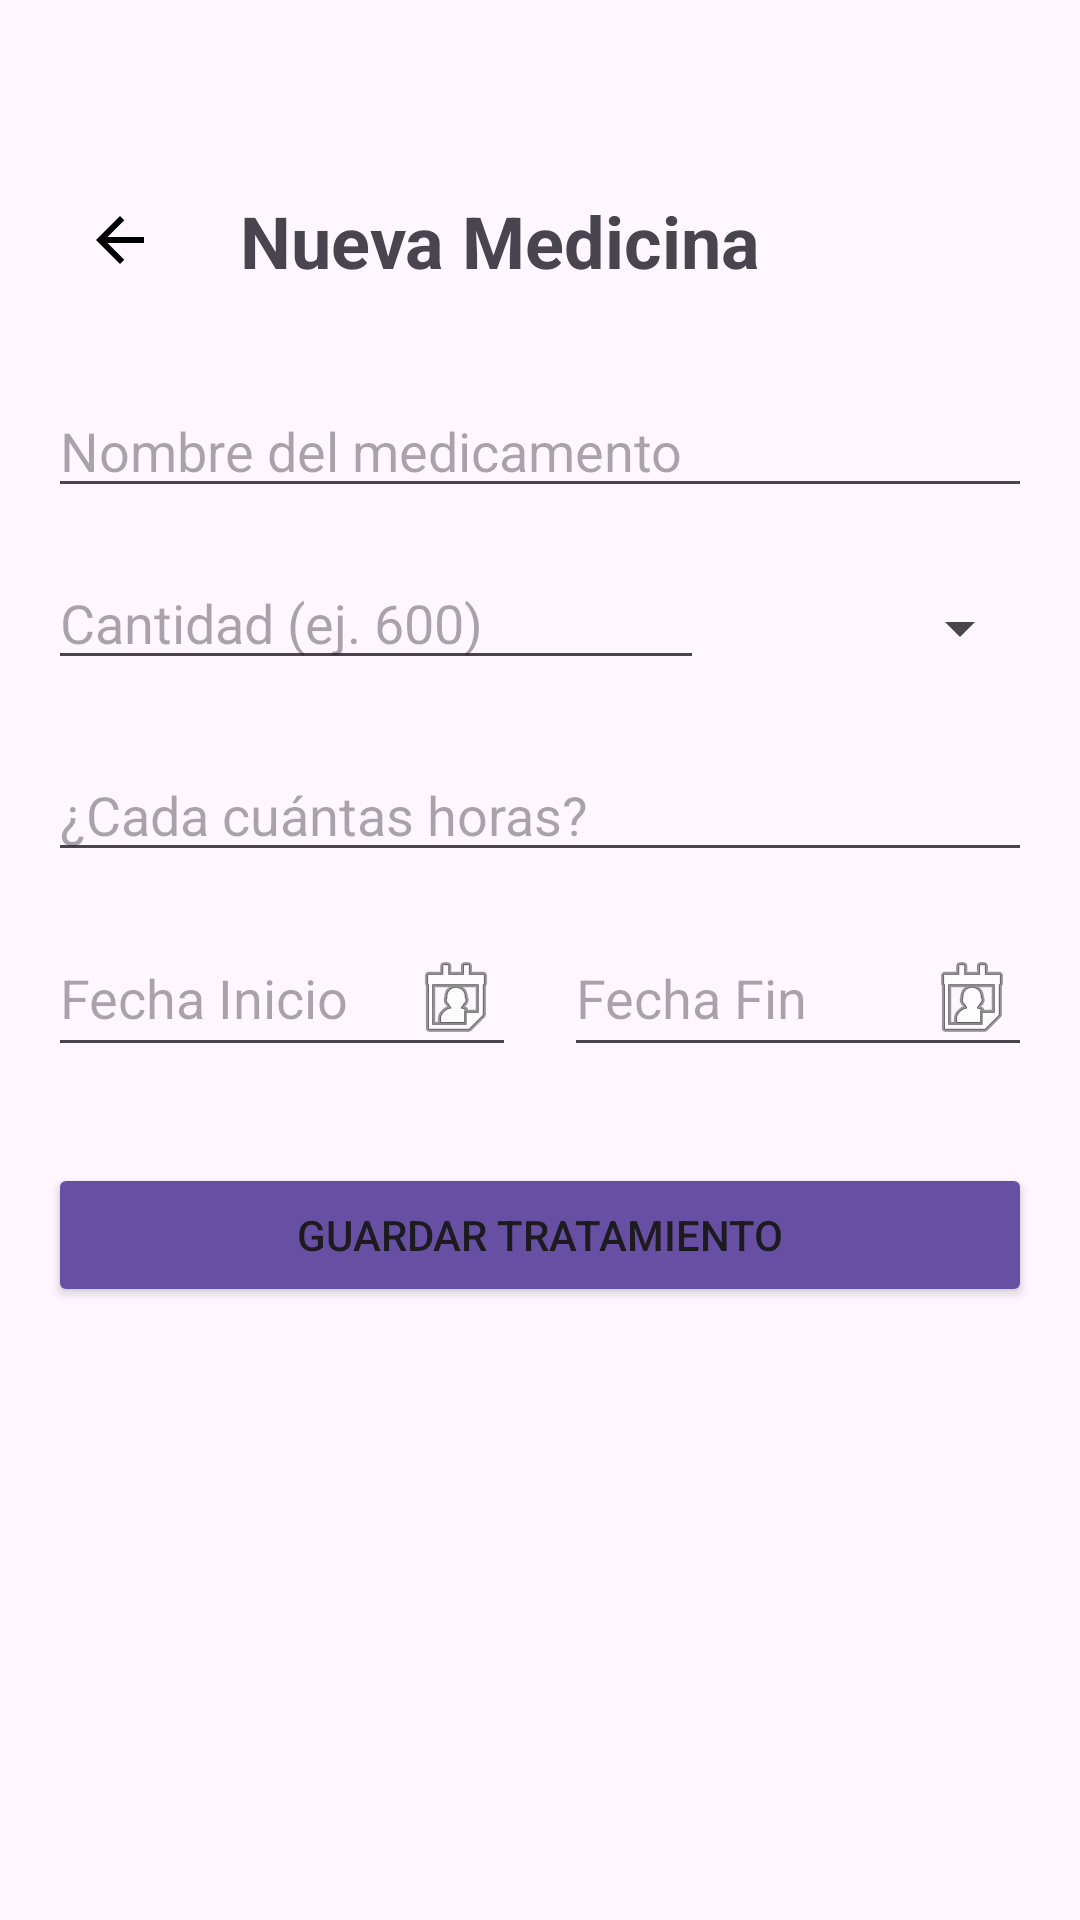

Icons on this 1080px x 1920px Android screen, each with its box as (x1=x1, y1=y1, x2=x2, y2=y2):
Volver: (x1=96, y1=216, x2=144, y2=264)
